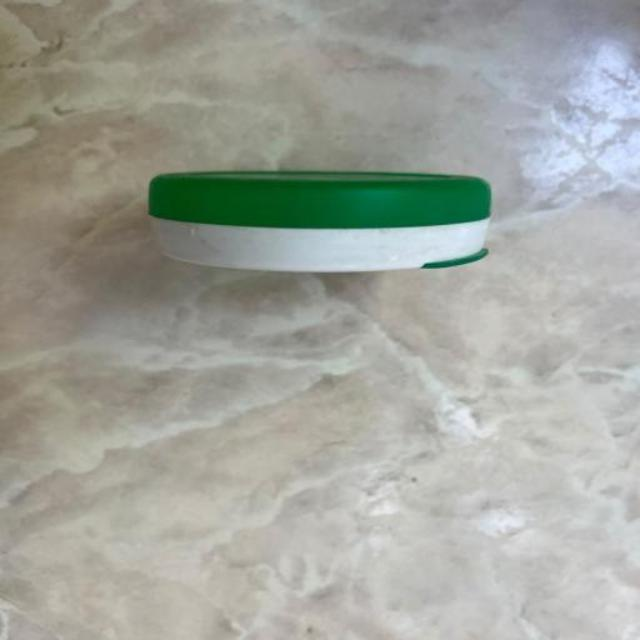HDPE: (139, 145, 539, 322)
